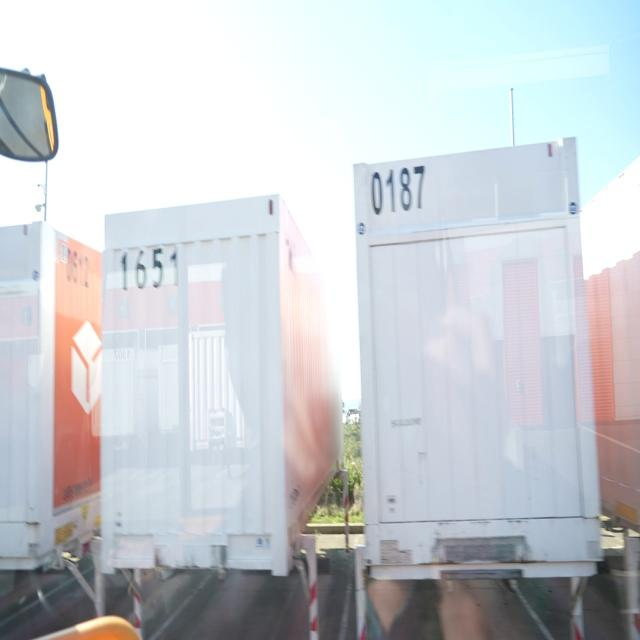Code: (364, 159, 428, 222), (117, 240, 189, 294)
